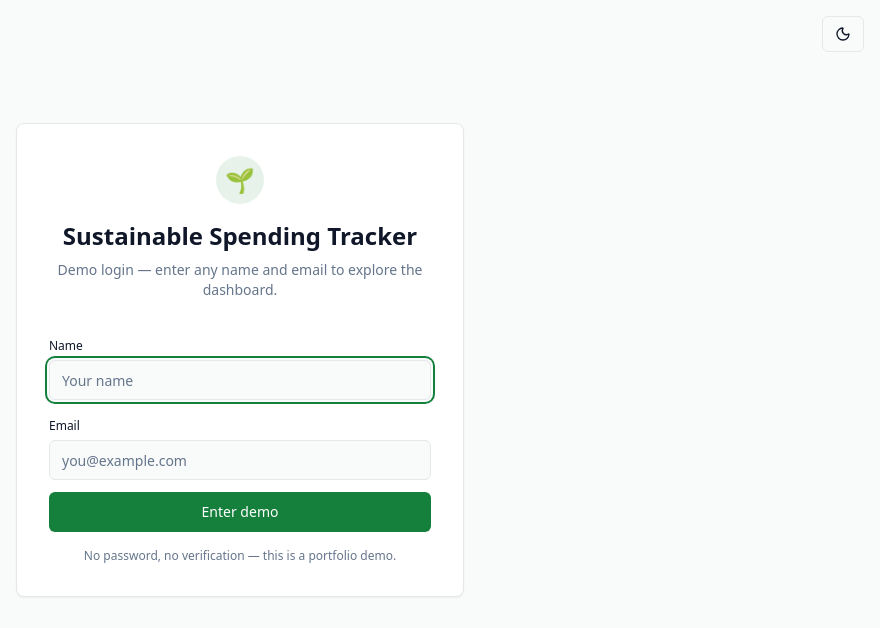
Test: LoginPage › rejects an invalid email format
Type "Roger" into the field labelled "Name" at (240, 380), box [49,360,431,400]
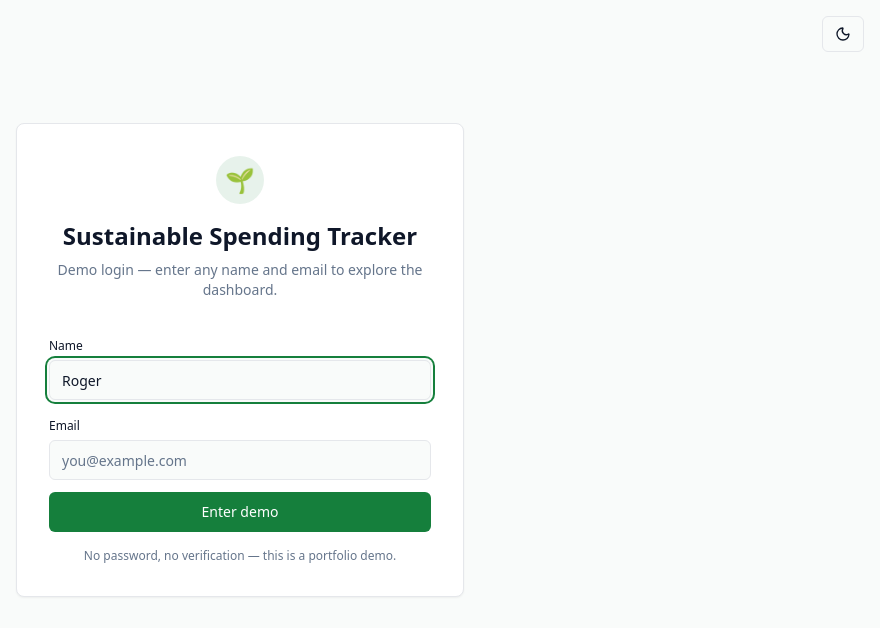
Type "not-an-email" into the field labelled "Email" at (240, 460), box [49,440,431,480]
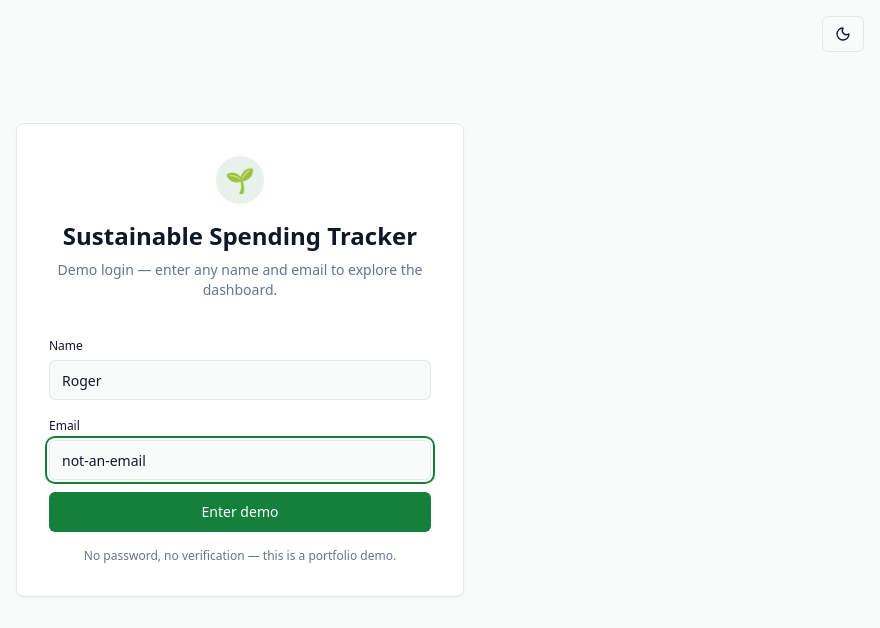
Click the button "Enter demo" at (240, 512), box [49,492,431,532]
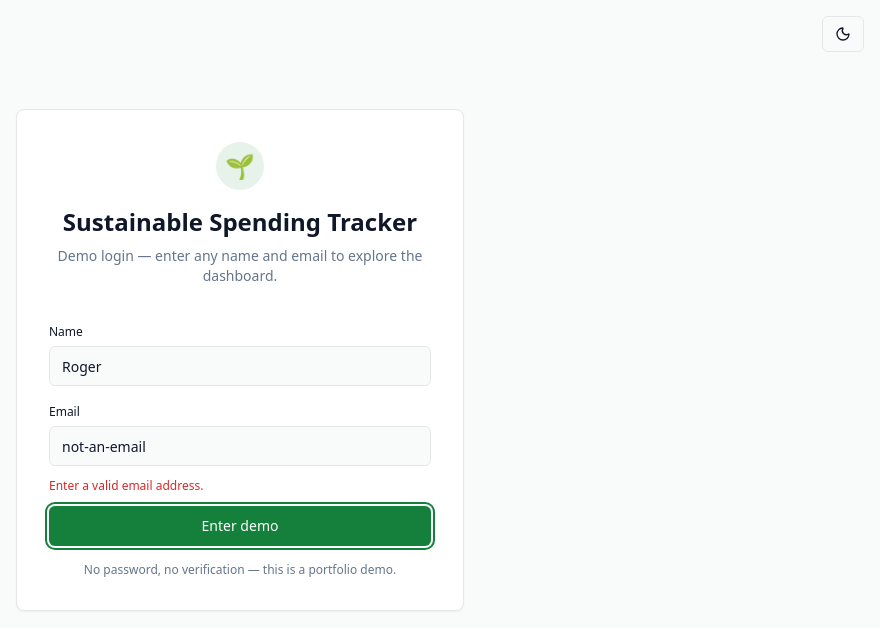
Expected: the message shows "valid email", [49,477,203,494]
